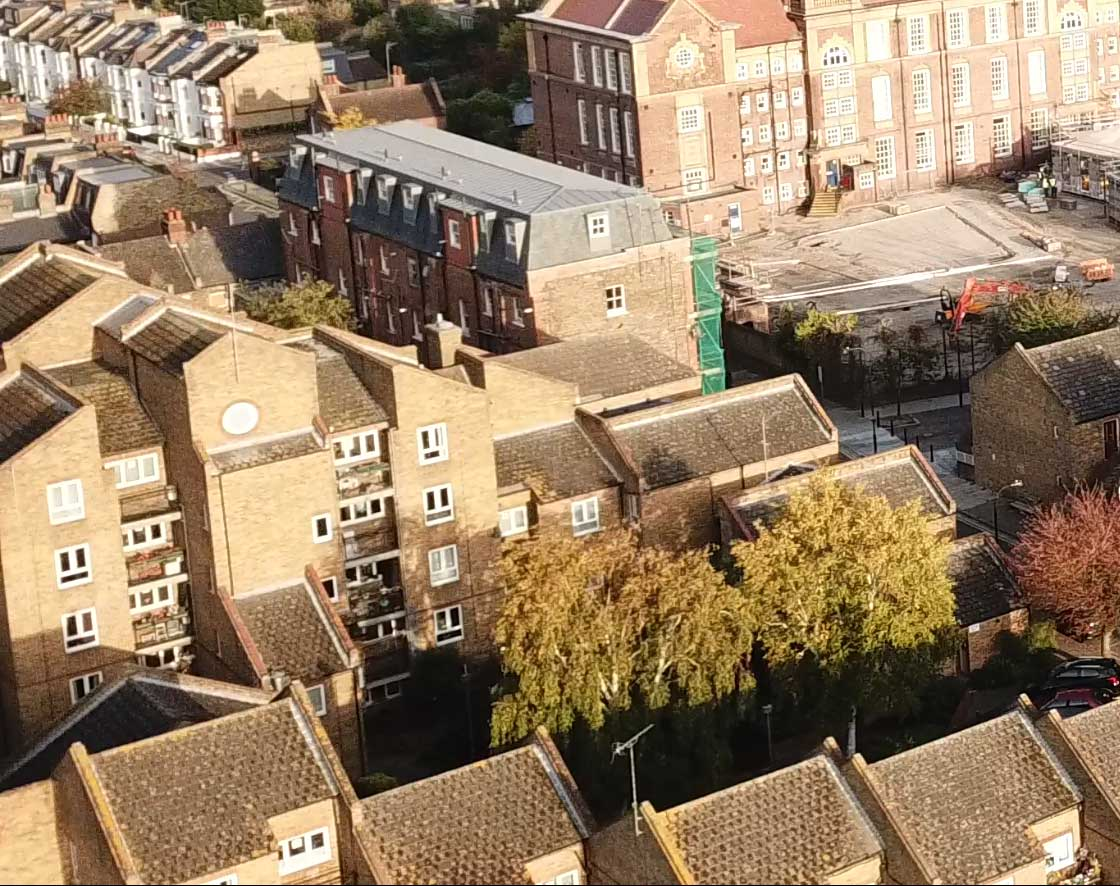building: (4, 261, 827, 684)
tree: (488, 495, 932, 769)
